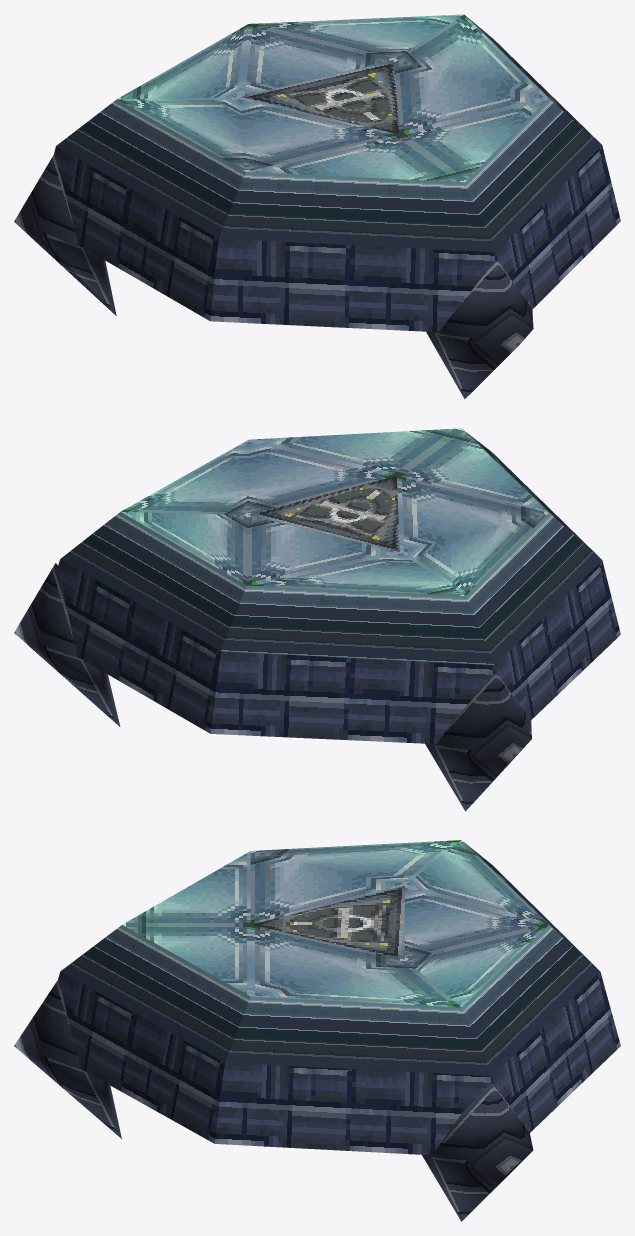
Rendered from 1f-proximity-mine-fp.glb.
3 views of the same model, one above another, from view 1: azimuth 30°, elevation 25°; view 2: azimuth 150°, elevation 25°; view 3: azimuth 270°, elevation 25° (orthographic).
Visible parts, largest first — view 1: gun; view 2: gun; view 3: gun.
Boxes of the visible parts, left/top/right/bottom form: gun: left=14, top=14, right=620, bottom=398; gun: left=14, top=428, right=620, bottom=811; gun: left=14, top=840, right=620, bottom=1221.
Size of the model in its own units: 135 by 55.29 by 142.
5 materials, 5 textured.
